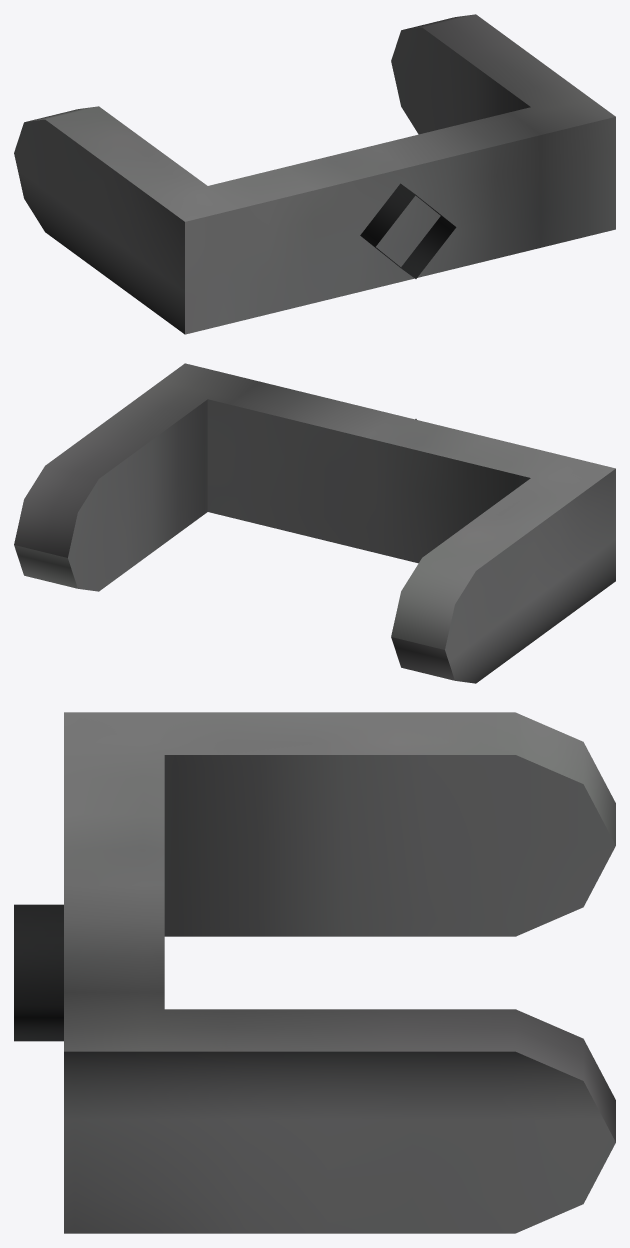
The model's file is Arrow_Engine_0p5_1_Rotator.obj.
The picture shows the model from 3 angles, top to bottom: view 1: azimuth 30°, elevation 25°; view 2: azimuth 150°, elevation 25°; view 3: azimuth 270°, elevation 25°; orthographic projection. The views are drawn at different scales.
Parts seen in each view (by area): view 1: Arrow_Engine_0p5_1_Rotator; view 2: Arrow_Engine_0p5_1_Rotator; view 3: Arrow_Engine_0p5_1_Rotator.
Part boxes in pixels (x1,y1,x2,y2): Arrow_Engine_0p5_1_Rotator: [14, 14, 615, 334]; Arrow_Engine_0p5_1_Rotator: [14, 363, 615, 683]; Arrow_Engine_0p5_1_Rotator: [14, 712, 615, 1233].
Bounding box in the file's own units: 0.2 × 0.05 × 0.15.
